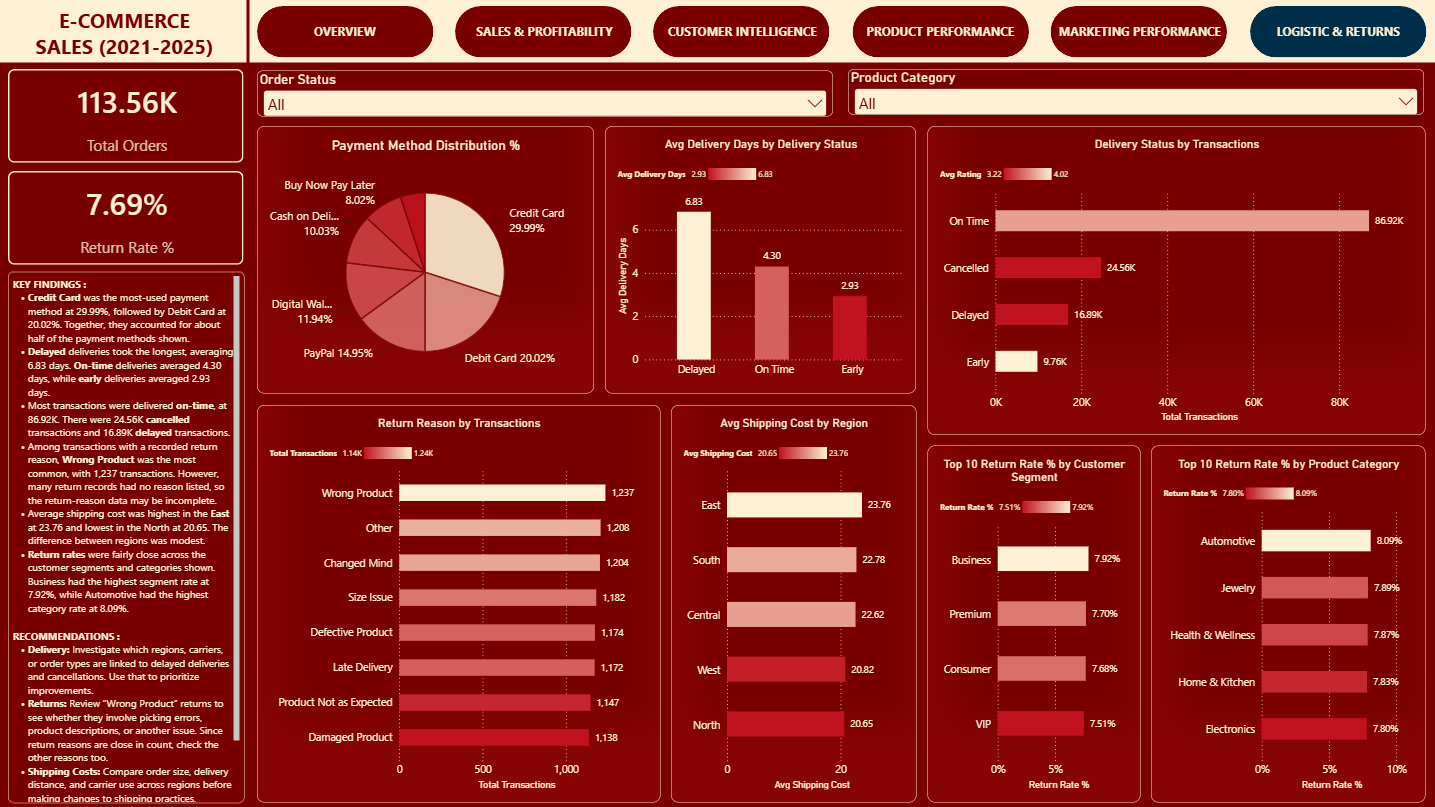

The page's visual inventory and layout, read from the dashboard file:
{"tool":"powerbi","page":{"name":"Logistic & Returns","canvas":[1920,1080],"ordinal":5},"visuals":[{"type":"shape","box":[0,0,1919.4,83.6],"z":0},{"type":"cardVisual","fields":{"Data":["Measure.Total Orders"]},"box":[11,92.4,314.8,125.5],"z":1000},{"type":"textbox","box":[0,0,334.6,83.6],"z":2000},{"type":"slicer","title":"Order Status","fields":{"Values":["ecommerce_sales_analytics_clean.order_status"]},"box":[343.4,94.6,768.2,61.6],"z":3000},{"type":"shape","box":[272.9,0,120,84],"z":4000},{"type":"textbox","box":[11.7,361.7,315,708.3],"z":5000},{"type":"barChart","title":"Avg Shipping Cost by Region","fields":{"Category":["ecommerce_sales_analytics_clean.region"],"Y":["Measure  - Sales.Avg Shipping Cost"]},"box":[895.5,539.4,327.3,530.3],"z":6000},{"type":"columnChart","title":"Avg Delivery Days by Delivery Status","fields":{"Category":["ecommerce_sales_analytics_clean.delivery_status"],"Y":["Measure  - Sales.Avg Delivery Days"]},"box":[808.1,167.6,414.9,356.8],"z":7000},{"type":"barChart","title":"Top 10 Return Rate % by Product Category","fields":{"Category":["product_catalog_clean.product_category"],"Y":["Measure  - Sales.Return Rate %"]},"box":[1536,594,366,476],"z":8000},{"type":"barChart","title":"Top 10 Return Rate % by Customer Segment","fields":{"Category":["ecommerce_sales_analytics_clean.customer_segment"],"Y":["Measure  - Sales.Return Rate %"]},"box":[1238,594,284,476],"z":9000},{"type":"pieChart","title":"Payment Method Distribution %","fields":{"Category":["ecommerce_sales_analytics_clean.payment_method"],"Y":["Measure  - Sales.Total Orders"]},"box":[343.4,167.3,449,356.6],"z":10000},{"type":"slicer","title":"Product Category","fields":{"Values":["product_catalog_clean.product_category"]},"box":[1131.4,92.4,768.2,61.6],"z":11000},{"type":"cardVisual","fields":{"Data":["Measure  - Sales.Return Rate %"]},"box":[12.7,227.3,314.8,125.5],"z":12000},{"type":"barChart","title":"Delivery Status by Transactions","fields":{"Category":["ecommerce_sales_analytics_clean.delivery_status"],"Y":["Measure  - Sales.Total Transactions"]},"box":[1238,168,664,412],"z":13000},{"type":"barChart","title":"Return Reason by Transactions","fields":{"Category":["ecommerce_sales_analytics_clean.return_reason"],"Y":["Measure  - Sales.Total Transactions"]},"box":[343.9,539.4,537.9,530.3],"z":14000},{"type":"shape","box":[343.2,8.2,235.4,68.6],"z":15000},{"type":"textbox","box":[317.7,15.7,286.3,60.8],"z":16000},{"type":"shape","box":[1667.1,8.2,235.4,68.6],"z":17000},{"type":"shape","box":[872.8,8.2,235.4,68.6],"z":18000},{"type":"shape","box":[1137.6,8.2,235.4,68.6],"z":19000},{"type":"shape","box":[1402.3,8.2,235.4,68.6],"z":20000},{"type":"shape","box":[608,8.2,235.4,68.6],"z":21000},{"type":"textbox","box":[583.3,15.4,286.3,60.8],"z":22000},{"type":"textbox","box":[847.4,15.4,286.3,60.8],"z":23000},{"type":"textbox","box":[1111.6,15.4,286.3,60.8],"z":24000},{"type":"textbox","box":[1377.9,15.4,286.3,60.8],"z":25000},{"type":"textbox","box":[1657.5,15.4,255.3,61.6],"z":26000},{"type":"actionButton","box":[610,15.7,233.4,54.9],"z":27000},{"type":"actionButton","box":[345.2,15.7,233.4,56.9],"z":28000},{"type":"actionButton","box":[868.9,15.7,233.4,54.9],"z":29000},{"type":"actionButton","box":[1137.6,15.7,233.4,54.9],"z":30000},{"type":"actionButton","box":[1404.3,15.7,233.4,56.9],"z":31000}]}

Visuals, with their boxes in screenshot pixels (x1, y1, x2, y2), scaled from the page's 1920x1080 canvas onto the 1435x807 screenshot:
shape: Rect(0, 0, 1434, 62)
cardVisual - Measure.Total Orders: Rect(8, 69, 244, 163)
textbox: Rect(0, 0, 250, 62)
"Order Status" slicer: Rect(257, 71, 831, 117)
shape: Rect(204, 0, 294, 63)
textbox: Rect(9, 270, 244, 800)
"Avg Shipping Cost by Region" barChart: Rect(669, 403, 914, 799)
"Avg Delivery Days by Delivery Status" columnChart: Rect(604, 125, 914, 392)
"Top 10 Return Rate % by Product Category" barChart: Rect(1148, 444, 1422, 800)
"Top 10 Return Rate % by Customer Segment" barChart: Rect(925, 444, 1138, 800)
"Payment Method Distribution %" pieChart: Rect(257, 125, 592, 391)
"Product Category" slicer: Rect(846, 69, 1420, 115)
cardVisual - Measure  - Sales.Return Rate %: Rect(9, 170, 245, 264)
"Delivery Status by Transactions" barChart: Rect(925, 126, 1422, 433)
"Return Reason by Transactions" barChart: Rect(257, 403, 659, 799)
shape: Rect(257, 6, 432, 57)
textbox: Rect(237, 12, 451, 57)
shape: Rect(1246, 6, 1422, 57)
shape: Rect(652, 6, 828, 57)
shape: Rect(850, 6, 1026, 57)
shape: Rect(1048, 6, 1224, 57)
shape: Rect(454, 6, 630, 57)
textbox: Rect(436, 12, 650, 57)
textbox: Rect(633, 12, 847, 57)
textbox: Rect(831, 12, 1045, 57)
textbox: Rect(1030, 12, 1244, 57)
textbox: Rect(1239, 12, 1430, 58)
actionButton: Rect(456, 12, 630, 53)
actionButton: Rect(258, 12, 432, 54)
actionButton: Rect(649, 12, 824, 53)
actionButton: Rect(850, 12, 1025, 53)
actionButton: Rect(1050, 12, 1224, 54)
